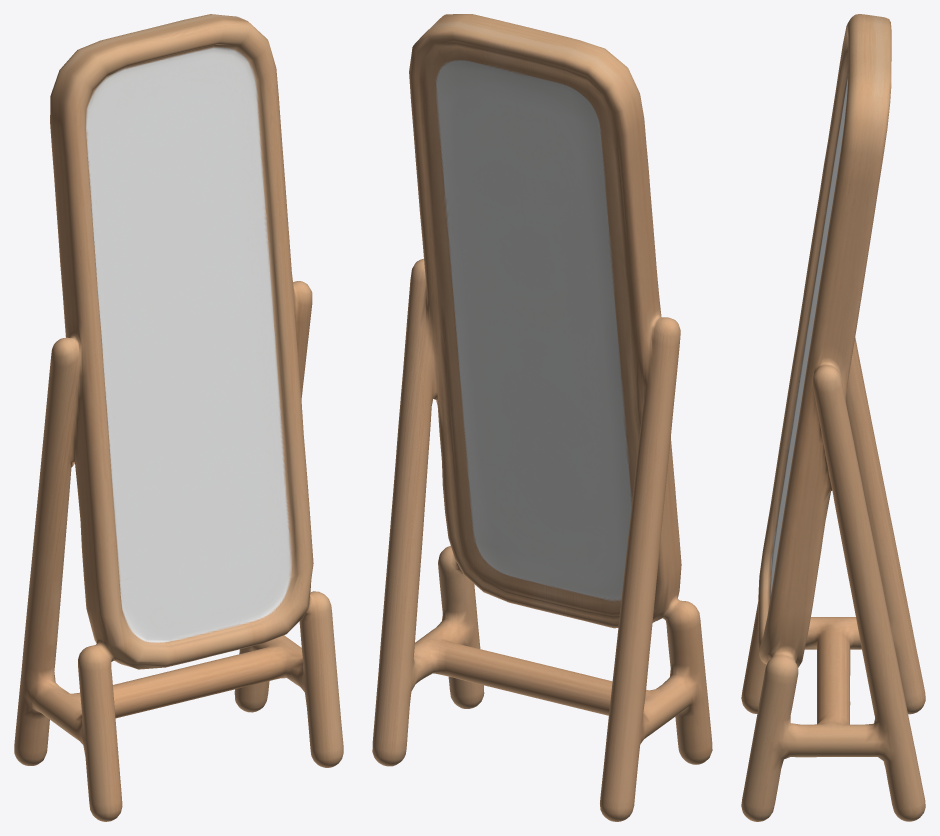
Rendered from Wooden_Standing_Mirro.glb.
3 renders of one model, left to right at view 1: azimuth 30°, elevation 25°; view 2: azimuth 150°, elevation 25°; view 3: azimuth 270°, elevation 25°, orthographic. The views are drawn at different scales.
Bounding box in the file's own units: 0.713 × 1.91 × 0.4435.
1 material, 1 textured.
